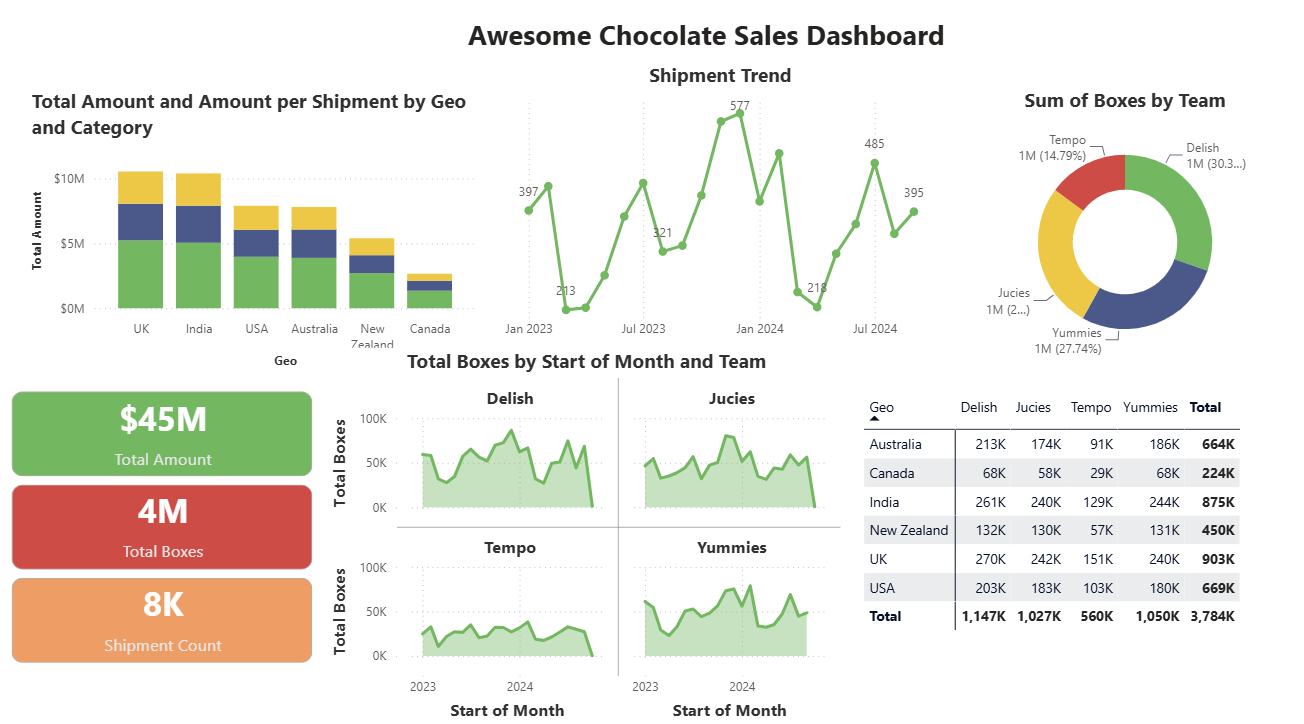

The page's visual inventory and layout, read from the dashboard file:
{"tool":"powerbi","page":{"name":"Dashboard Overview","canvas":[1280,720],"ordinal":0},"visuals":[{"type":"columnChart","fields":{"Category":["locations.Geo"],"Series":["products.Category"],"Y":["shipments.Total Amount"]},"box":[28.1,96.6,445.2,279.9],"z":0},{"type":"lineChart","title":"Shipment Trend","fields":{"Category":["calendar.Start of Month"],"Y":["shipments.Shipment Count"]},"box":[490.4,70.9,432.9,280],"z":1000},{"type":"donutChart","fields":{"Category":["people.Team"],"Y":["Sum(shipments.Boxes)"]},"box":[950.1,95.4,305.2,279.9],"z":2000},{"type":"cardVisual","fields":{"Data":["shipments.Total Amount","shipments.Total Boxes","shipments.Shipment Count"]},"box":[8.6,388.9,304,277.5],"z":3000},{"type":"pivotTable","fields":{"Columns":["people.Team"],"Rows":["locations.Geo"],"Values":["shipments.Total Boxes"]},"box":[842.5,388.9,425.5,277.6],"z":4000},{"type":"stackedAreaChart","fields":{"Category":["calendar.Start of Month"],"Rows":["people.Team"],"Y":["shipments.Total Boxes"]},"box":[321.6,351,508.7,369.3],"z":5000},{"type":"textbox","box":[454.9,20.8,593.1,50.1],"z":6000}]}

Visuals, with their boxes in screenshot pixels (x1, y1, x2, y2), scaled from the page's 1280x720 canvas onto the 1304x724 screenshot:
columnChart - locations.Geo x products.Category: (29, 97, 482, 379)
"Shipment Trend" lineChart: (500, 71, 941, 353)
donutChart - people.Team x Sum(shipments.Boxes): (968, 96, 1279, 377)
cardVisual - shipments.Total Amount x shipments.Total Boxes: (9, 391, 318, 670)
pivotTable - people.Team x locations.Geo: (858, 391, 1292, 670)
stackedAreaChart - calendar.Start of Month x people.Team: (328, 353, 846, 723)
textbox: (463, 21, 1068, 71)
